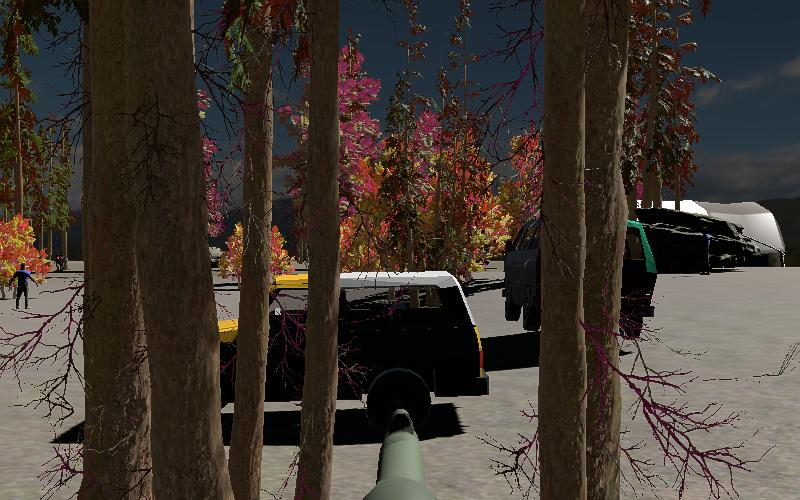Human: (9, 261, 38, 311)
car: (206, 266, 490, 432), (502, 197, 659, 336)
